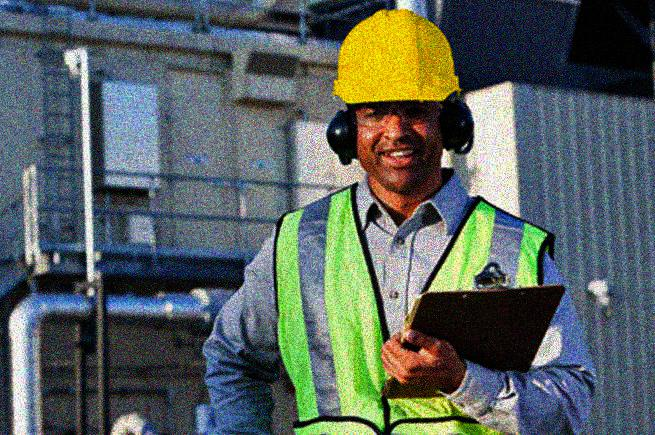helmet: (330, 6, 465, 192)
